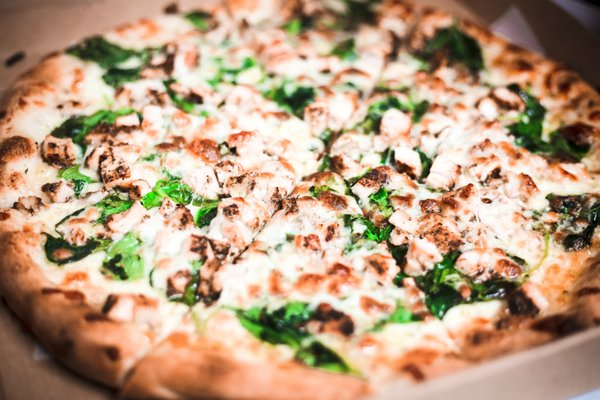sandwich: (0, 1, 600, 390)
